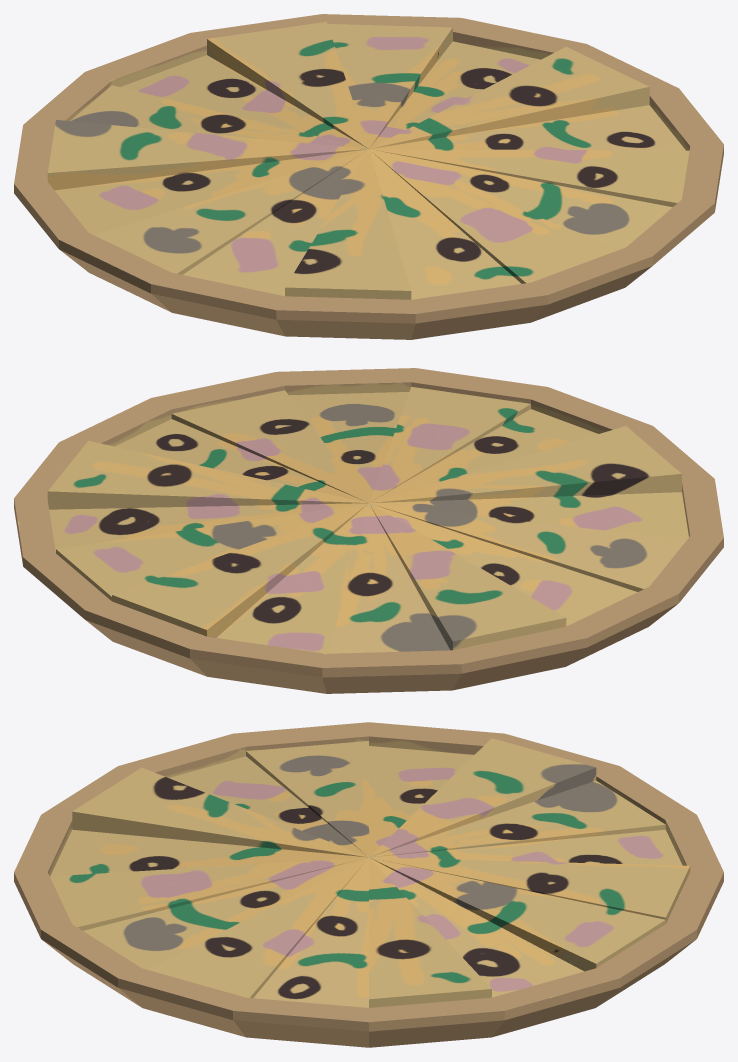
Rendered from Pizza.fbx.
3 views of the same model, one above another, from view 1: azimuth 30°, elevation 25°; view 2: azimuth 150°, elevation 25°; view 3: azimuth 270°, elevation 25° (orthographic).
Visible parts, largest first — view 1: Pizza; view 2: Pizza; view 3: Pizza.
Boxes of the visible parts, x1,y1,x2,y2 form: Pizza: (14, 14, 723, 339); Pizza: (14, 368, 723, 693); Pizza: (14, 722, 723, 1047).
Bounding box in the file's own units: 201 × 201 × 17.16.
1 material, 1 textured.
